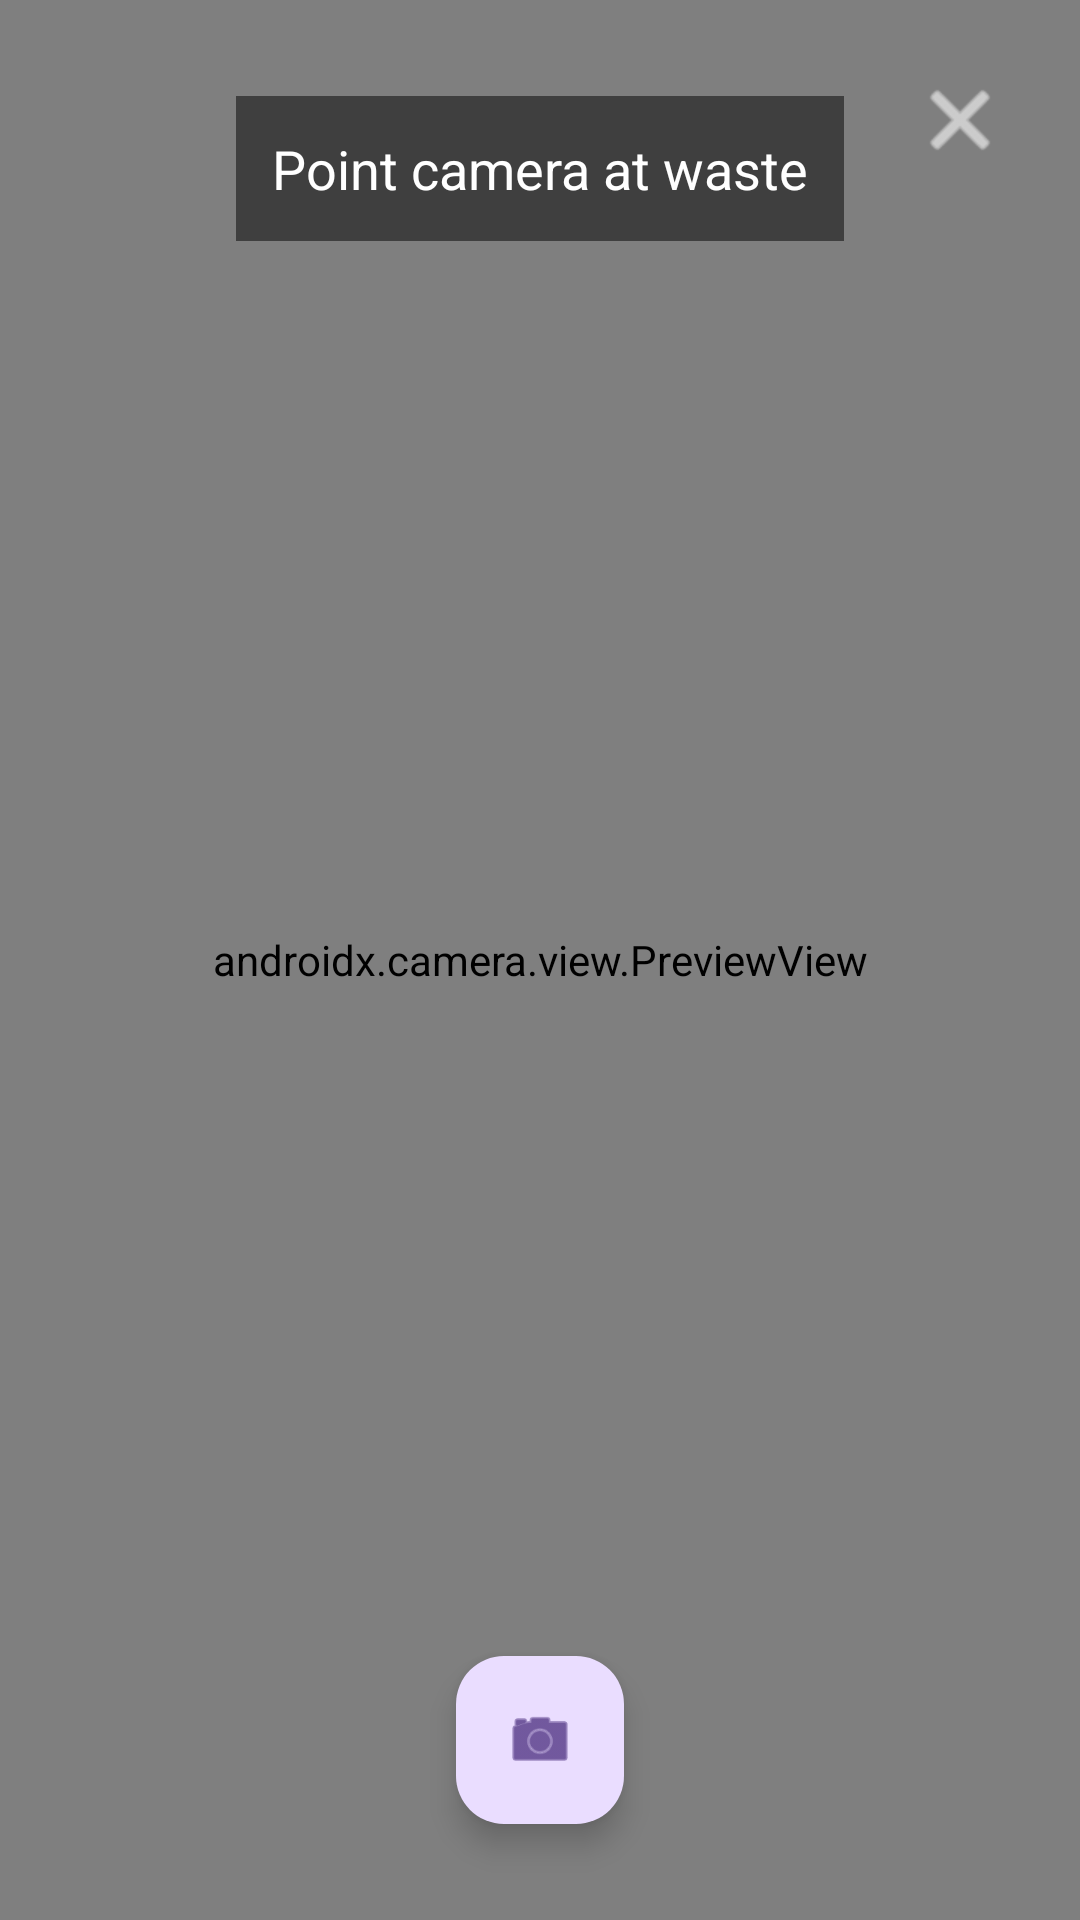

Icon click points for this 1080×1920 phone screenshot, format (x,y):
Capture waste image: (540,1740)
Close scanner: (960,120)
